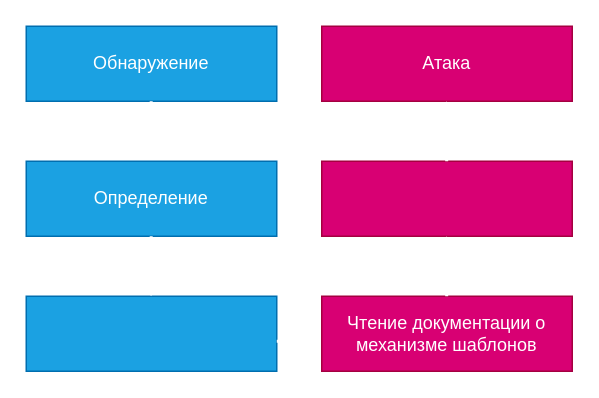
The diagram is 599 pixels wide and 398 high, and some of its shapes have lost their labels. Each missing label, with the box of its shape:
Изучение среды: (320, 160, 572, 236)
Эксплуатация: (25, 295, 277, 371)
